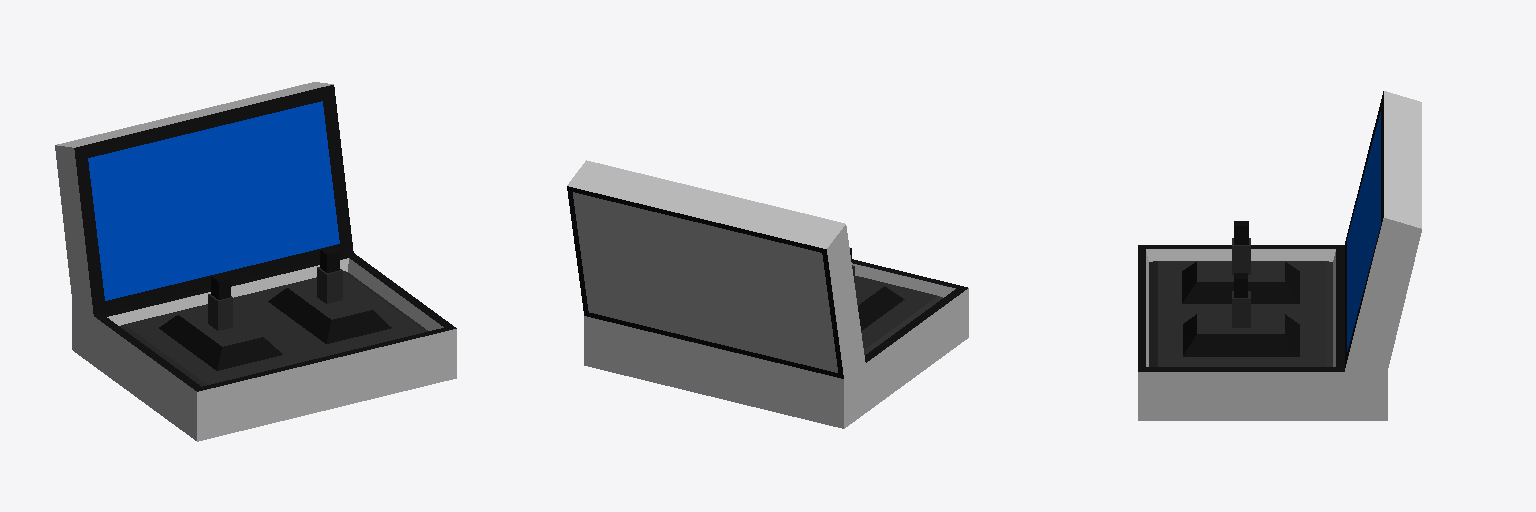
Rendered from drone_control.obj.
3 renders of one model, left to right at view 1: azimuth 30°, elevation 25°; view 2: azimuth 150°, elevation 25°; view 3: azimuth 270°, elevation 25°, orthographic.
Parts seen in each view (by area): view 1: Cube_Cube.002; view 2: Cube_Cube.002; view 3: Cube_Cube.002.
Part boxes in pixels (bbox=[...]): Cube_Cube.002: bbox=[55, 82, 456, 441]; Cube_Cube.002: bbox=[567, 160, 968, 428]; Cube_Cube.002: bbox=[1138, 91, 1421, 420].
Bounding box in the file's own units: 0.4581 × 0.3434 × 0.4348.